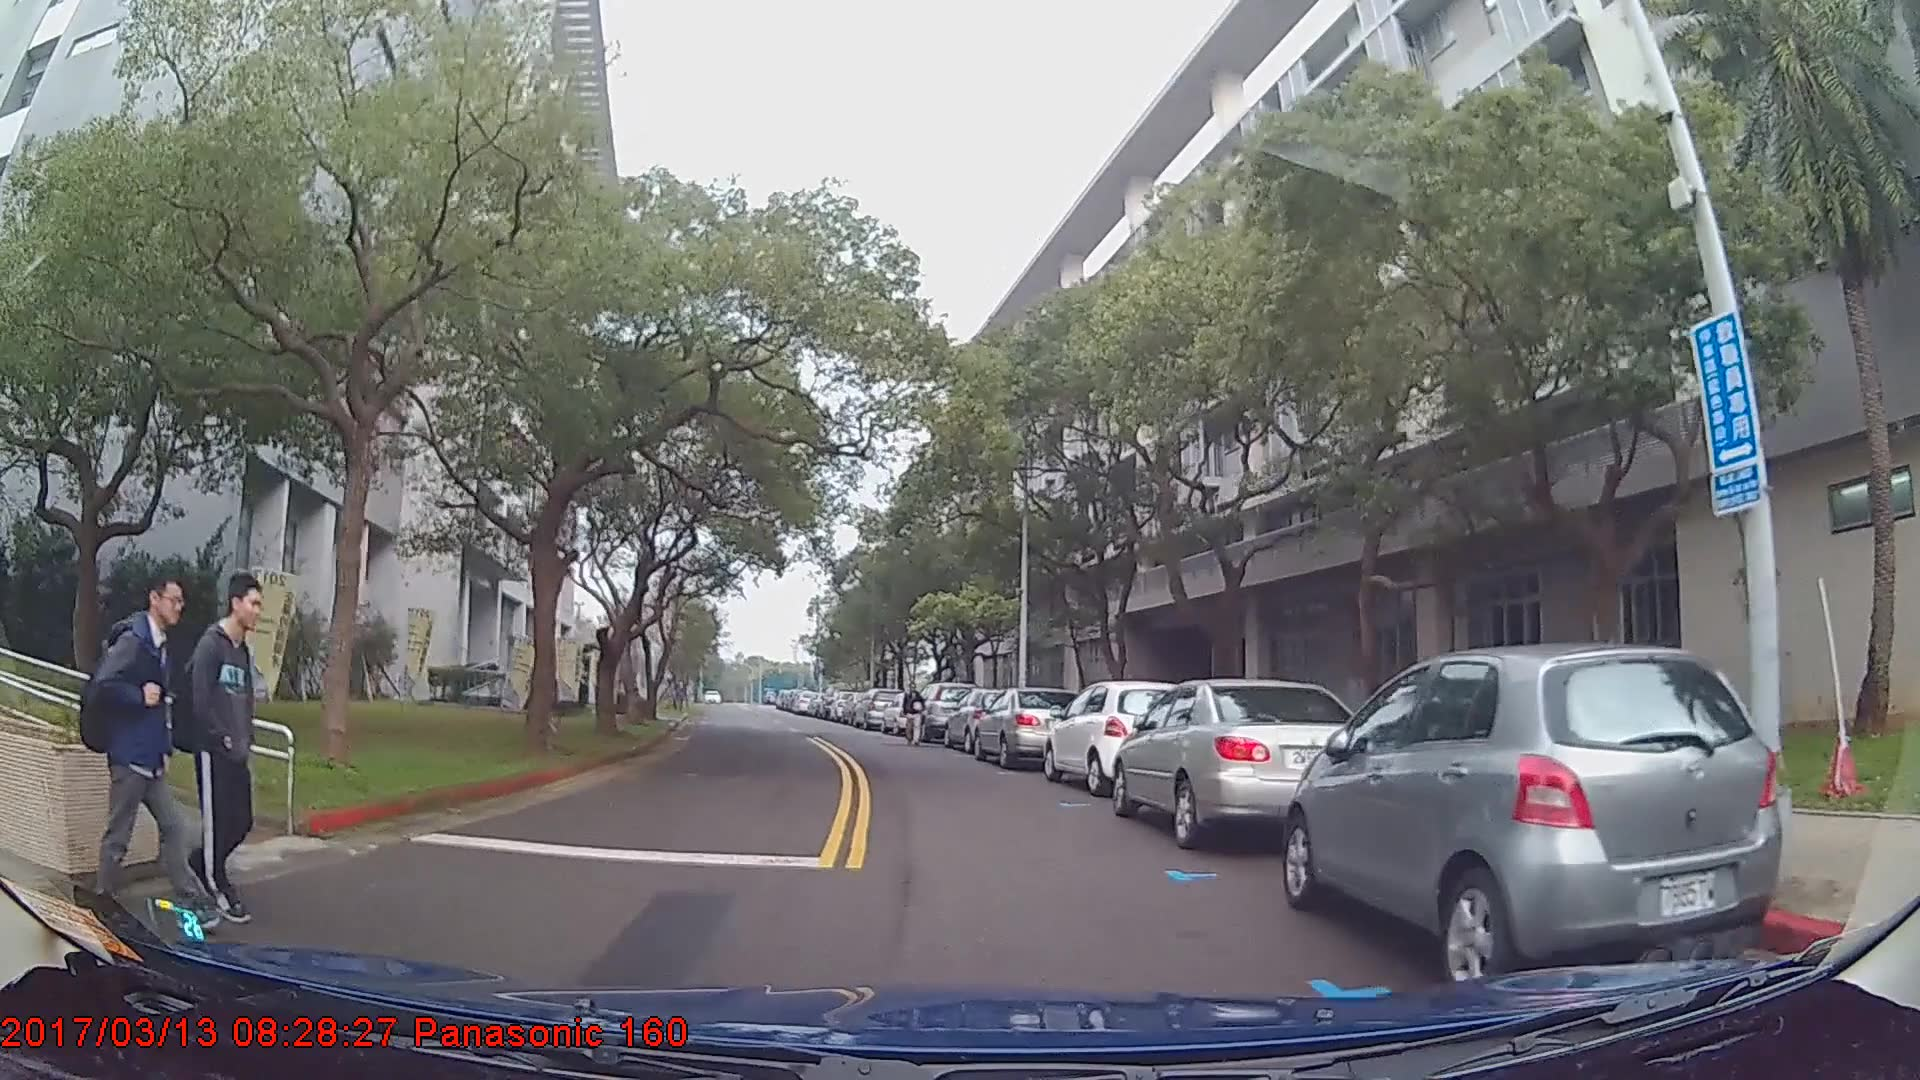pedestrian: (77, 564, 229, 944), (168, 565, 264, 926), (901, 675, 927, 744)
vehicle: (1283, 638, 1783, 994), (1112, 675, 1382, 846), (1045, 676, 1194, 796), (973, 684, 1078, 767), (940, 686, 1035, 754), (914, 680, 972, 741), (850, 687, 900, 731)
